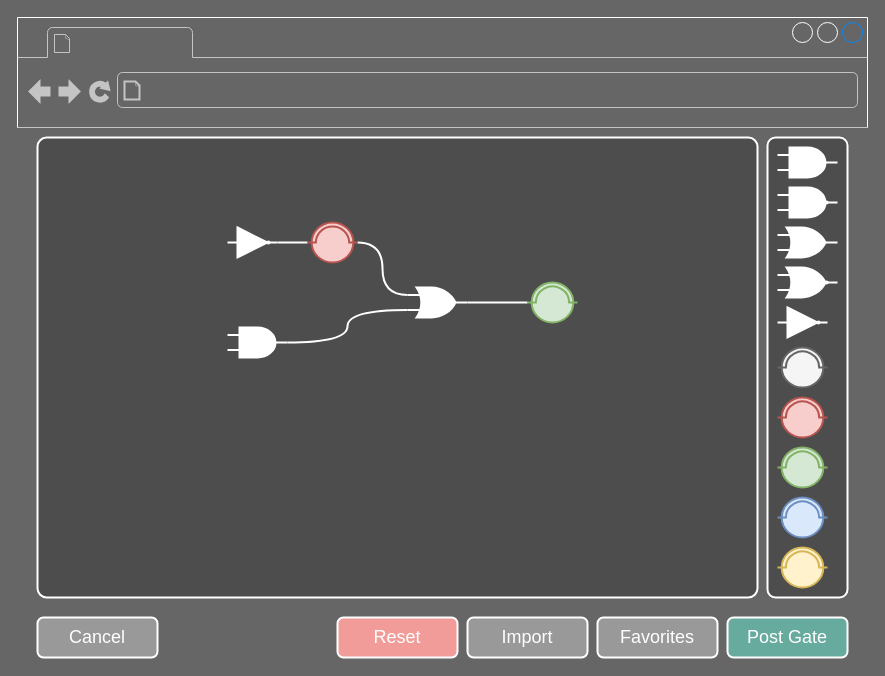
The diagram is 885 pixels wide and 676 high, and some of its shapes have lost their labels. Each missing label, with the box of its shape:
Gates: (76, 28, 188, 56)
https://gates.com: (146, 76, 398, 104)
